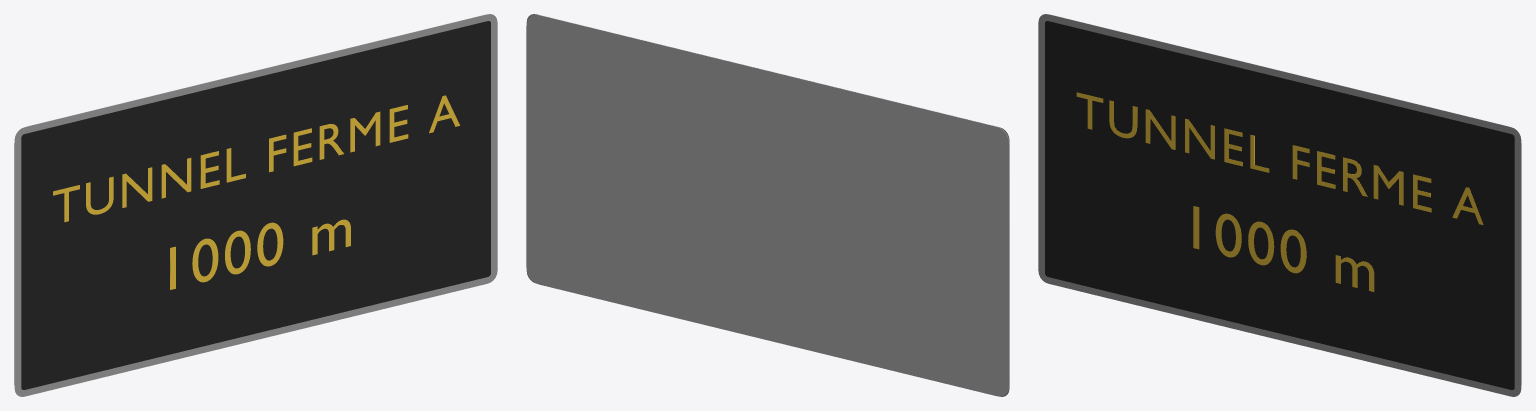
Rendered from MSG_TUNNEL_FERME_A_xxxx_m.glb.
The picture shows the model from 3 angles, left to right: view 1: azimuth 30°, elevation 25°; view 2: azimuth 150°, elevation 25°; view 3: azimuth 330°, elevation 25°; orthographic projection.
Parts seen in each view (by area): view 1: MSG_TUNNEL_FERME_A_xxxx_m_fond01, MSG_TUNNEL_FERME_A_xxxx_m_cadre00, MSG_TUNNEL_FERME_A_xxxx_m_txt02, MSG_TUNNEL_FERME_A_xxxx_m_txt03, MSG_TUNNEL_FERME_A_xxxx_m_dos; view 2: MSG_TUNNEL_FERME_A_xxxx_m_dos; view 3: MSG_TUNNEL_FERME_A_xxxx_m_fond01, MSG_TUNNEL_FERME_A_xxxx_m_cadre00, MSG_TUNNEL_FERME_A_xxxx_m_txt02, MSG_TUNNEL_FERME_A_xxxx_m_txt03, MSG_TUNNEL_FERME_A_xxxx_m_dos.
Boxes of the visible parts, x1,y1,x2,y2 form: MSG_TUNNEL_FERME_A_xxxx_m_fond01: (21, 21, 490, 389); MSG_TUNNEL_FERME_A_xxxx_m_cadre00: (14, 14, 497, 396); MSG_TUNNEL_FERME_A_xxxx_m_txt02: (53, 95, 459, 222); MSG_TUNNEL_FERME_A_xxxx_m_txt03: (170, 219, 350, 289); MSG_TUNNEL_FERME_A_xxxx_m_dos: (14, 14, 484, 384); MSG_TUNNEL_FERME_A_xxxx_m_dos: (526, 14, 1009, 396); MSG_TUNNEL_FERME_A_xxxx_m_fond01: (1045, 21, 1514, 389); MSG_TUNNEL_FERME_A_xxxx_m_cadre00: (1038, 14, 1521, 396); MSG_TUNNEL_FERME_A_xxxx_m_txt02: (1076, 92, 1483, 225); MSG_TUNNEL_FERME_A_xxxx_m_txt03: (1193, 206, 1374, 291); MSG_TUNNEL_FERME_A_xxxx_m_dos: (1051, 14, 1521, 384).
Size of the model in its own units: 1.5 by 0.8 by 0.0029.
